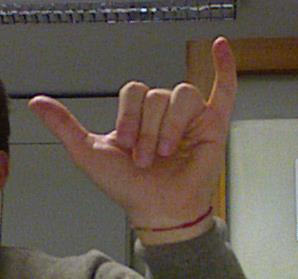clockwise: (27, 36, 237, 219)
